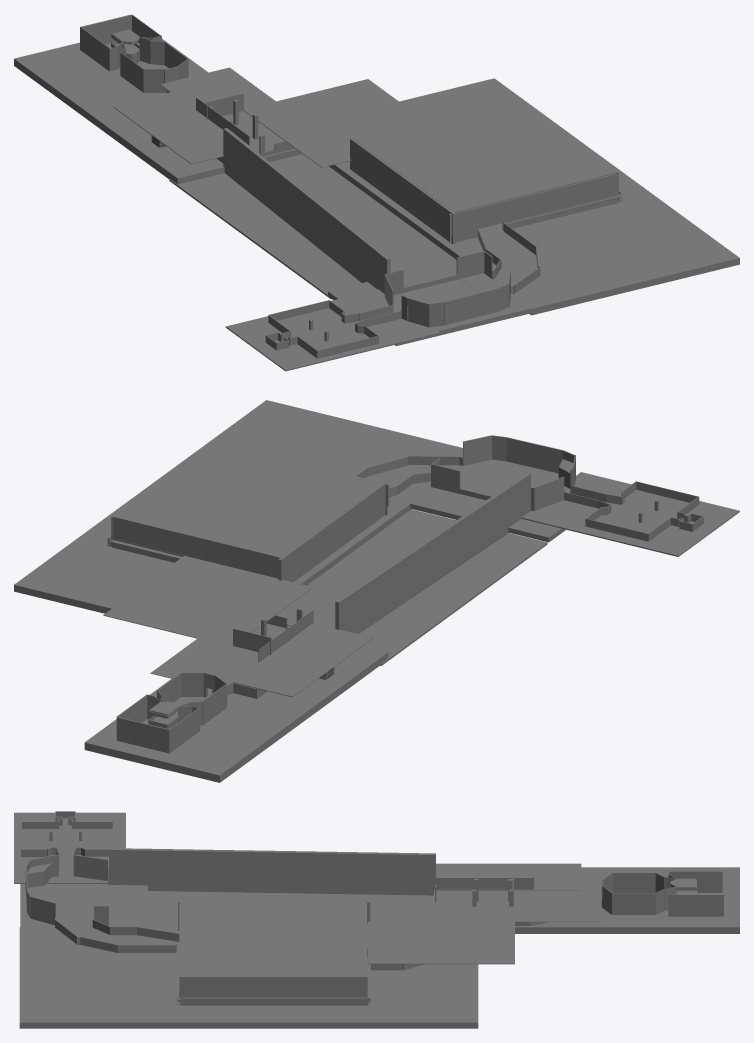
Rendered from Room.obj.
3 views of the same model, one above another, from view 1: azimuth 30°, elevation 25°; view 2: azimuth 150°, elevation 25°; view 3: azimuth 270°, elevation 25° (orthographic). The views are drawn at different scales.
Visible parts, largest first — view 1: pCube58, pCube161, pCube86, pCube5, pCube160, pCube155, pCube124, pCube97, pCube73, pCube107, pCube76, pCube156 (+7 smaller); view 2: pCube58, pCube161, pCube86, pCube5, pCube160, pCube155, pCube124, pCube97, pCube107, pCube76, pCube71, pCube156 (+9 smaller); view 3: pCube58, pCube161, pCube155, pCube160, pCube5, pCube124, pCube107, pCube72, pCube86, pCube97, pCube156, pCube99 (+12 smaller).
Part boxes in pixels (bbox=[...]): pCube58: bbox=[329, 78, 739, 315]; pCube161: bbox=[354, 99, 616, 212]; pCube86: bbox=[169, 154, 455, 299]; pCube5: bbox=[14, 39, 302, 184]; pCube160: bbox=[244, 79, 426, 167]; pCube155: bbox=[223, 128, 390, 293]; pCube124: bbox=[225, 289, 439, 371]; pCube97: bbox=[113, 92, 223, 164]; pCube73: bbox=[448, 173, 617, 235]; pCube107: bbox=[328, 260, 531, 345]; pCube76: bbox=[350, 138, 455, 244]; pCube156: bbox=[160, 67, 276, 114]; pCube58: bbox=[14, 400, 462, 613]; pCube161: bbox=[113, 442, 382, 558]; pCube86: bbox=[276, 509, 547, 665]; pCube5: bbox=[84, 623, 388, 782]; pCube160: bbox=[103, 555, 313, 645]; pCube155: bbox=[335, 473, 530, 633]; pCube124: bbox=[521, 472, 739, 556]; pCube97: bbox=[233, 623, 373, 697]; pCube107: bbox=[410, 460, 565, 542]; pCube76: bbox=[278, 481, 387, 582]; pCube71: bbox=[113, 519, 278, 578]; pCube156: bbox=[150, 637, 269, 686]; pCube58: bbox=[19, 927, 478, 1028]; pCube161: bbox=[180, 902, 366, 976]; pCube155: bbox=[109, 848, 435, 895]; pCube160: bbox=[367, 906, 514, 964]; pCube5: bbox=[434, 867, 739, 933]; pCube124: bbox=[14, 812, 125, 883]; pCube107: bbox=[20, 884, 147, 927]; pCube72: bbox=[179, 976, 367, 996]; pCube86: bbox=[148, 891, 433, 927]; pCube97: bbox=[436, 863, 581, 890]; pCube156: bbox=[512, 890, 601, 921]; pCube99: bbox=[180, 997, 368, 1005].
Size of what is drawn, in the model's own units: 215 by 20.4 by 317.
Materials: 3 (2 with a texture image).
